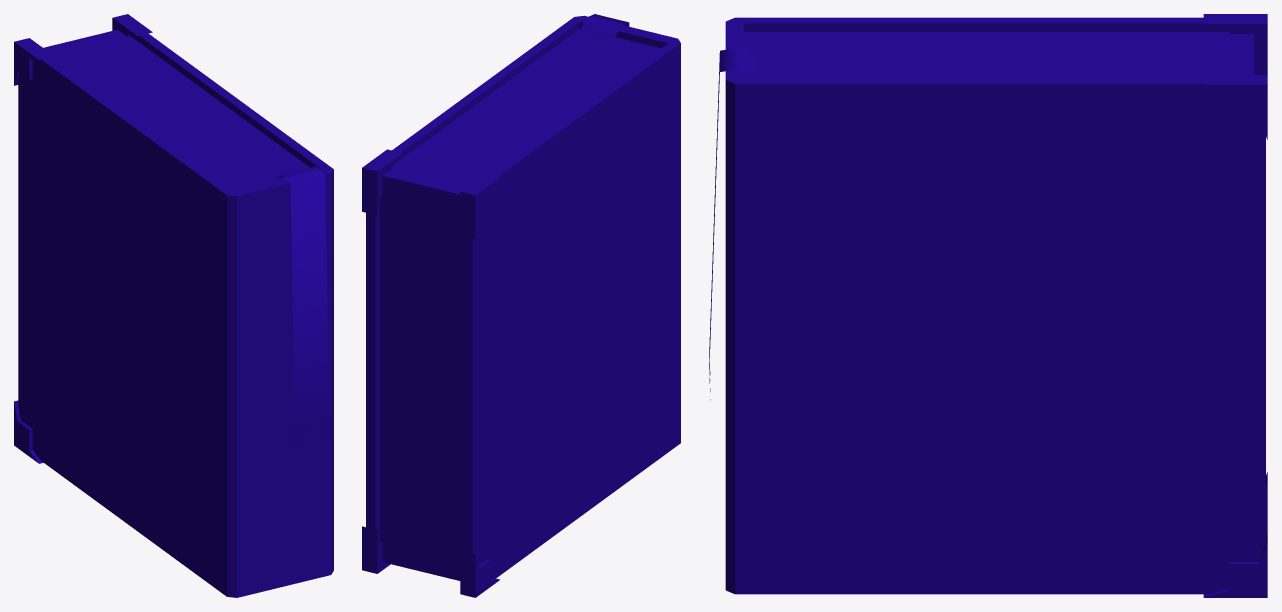
The model's file is CG_Model_TownInt_Book7_Mar24_ChrisMcknight.FBX.
3 views of the same model, side by side, from view 1: azimuth 30°, elevation 25°; view 2: azimuth 150°, elevation 25°; view 3: azimuth 270°, elevation 25° (orthographic). The views are drawn at different scales.
Parts seen in each view (by area): view 1: Book7; view 2: Book7; view 3: Book7.
Part boxes in pixels (x1=…): Book7: x1=14, y1=14, x2=333, y2=597; Book7: x1=362, y1=14, x2=680, y2=597; Book7: x1=709, y1=14, x2=1267, y2=597.
Size of the model in its own units: 1.64 by 5.61 by 5.48.
